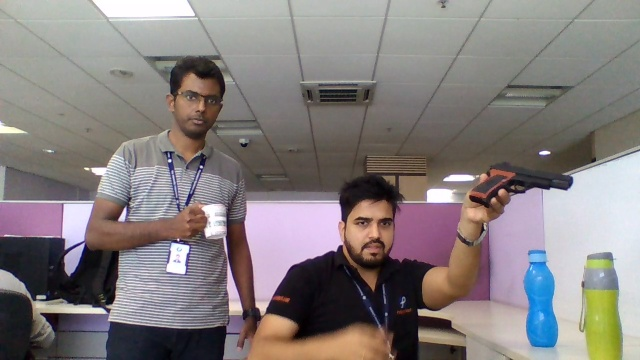gun: (471, 166, 574, 192)
